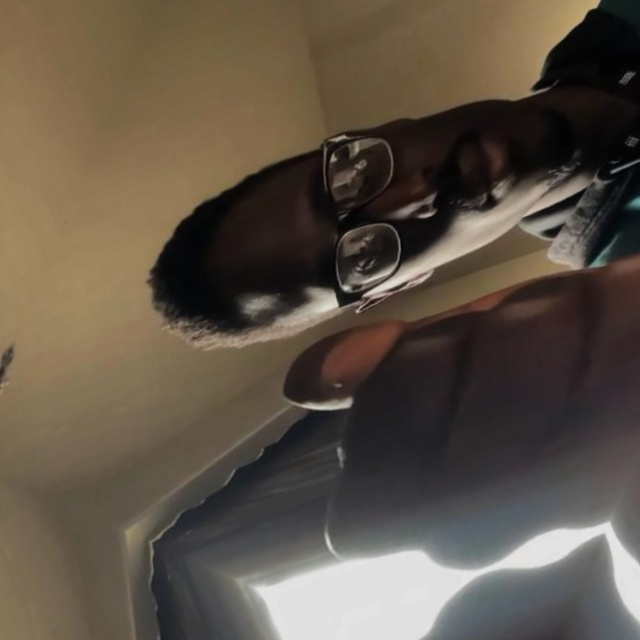Rock: (0, 560, 529, 640)
